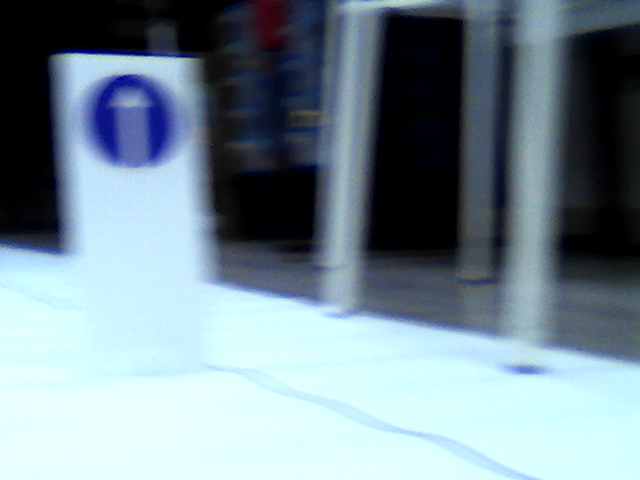forw: (89, 75, 182, 168)
